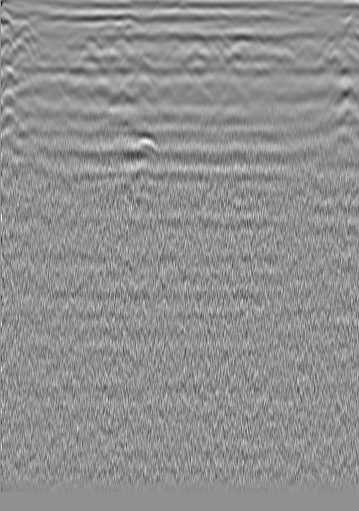가스: (122, 135, 164, 170)
상수: (290, 35, 323, 68)
오수: (12, 22, 32, 42)
우수: (164, 32, 184, 52)
